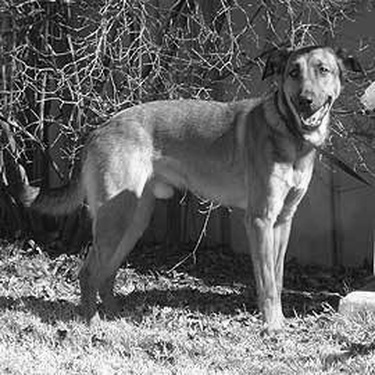dog: (3, 38, 368, 348)
